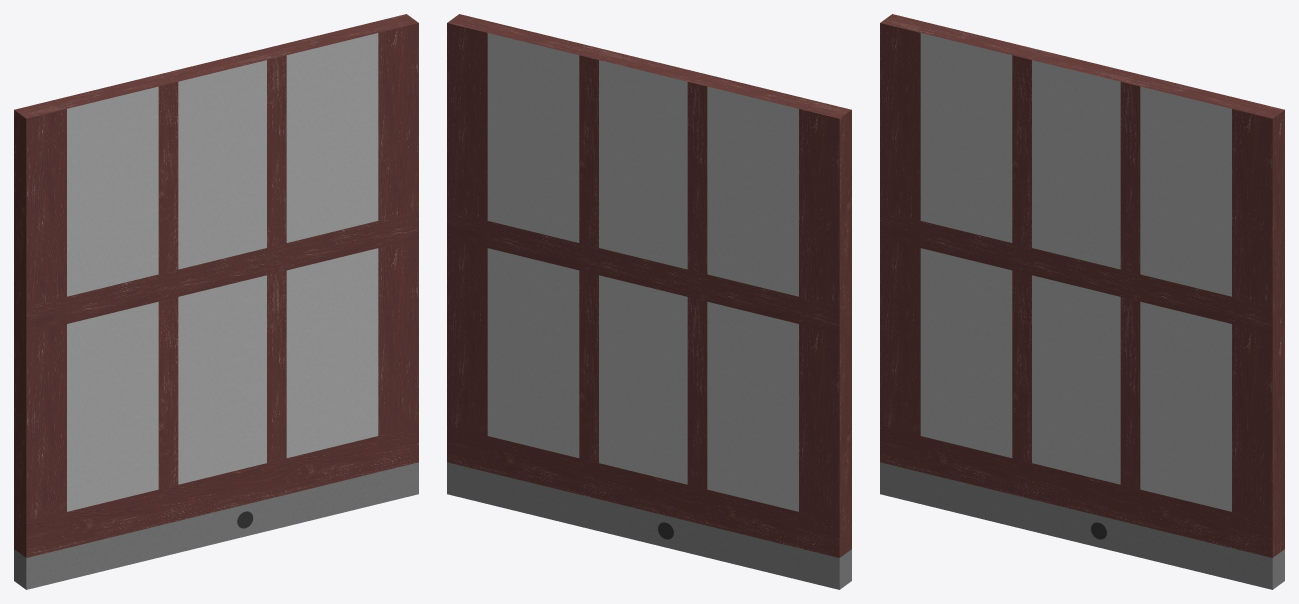
Rendered from SM_Sun_Bul_Wall_B.fbx.
The picture shows the model from 3 angles, left to right: view 1: azimuth 30°, elevation 25°; view 2: azimuth 150°, elevation 25°; view 3: azimuth 330°, elevation 25°; orthographic projection.
Parts seen in each view (by area): view 1: SM_Sun_Bul_Wall_B; view 2: SM_Sun_Bul_Wall_B; view 3: SM_Sun_Bul_Wall_B.
Part boxes in pixels (x1,y1,x2,y2): SM_Sun_Bul_Wall_B: (14, 14, 418, 589); SM_Sun_Bul_Wall_B: (447, 14, 851, 589); SM_Sun_Bul_Wall_B: (880, 14, 1284, 589).
Size of the model in its own units: 276 by 317 by 15.
